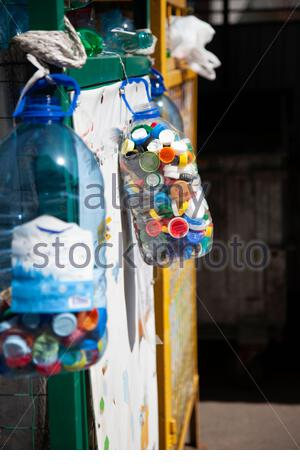plastic_bottle: (78, 16, 249, 334), (2, 44, 124, 414)
